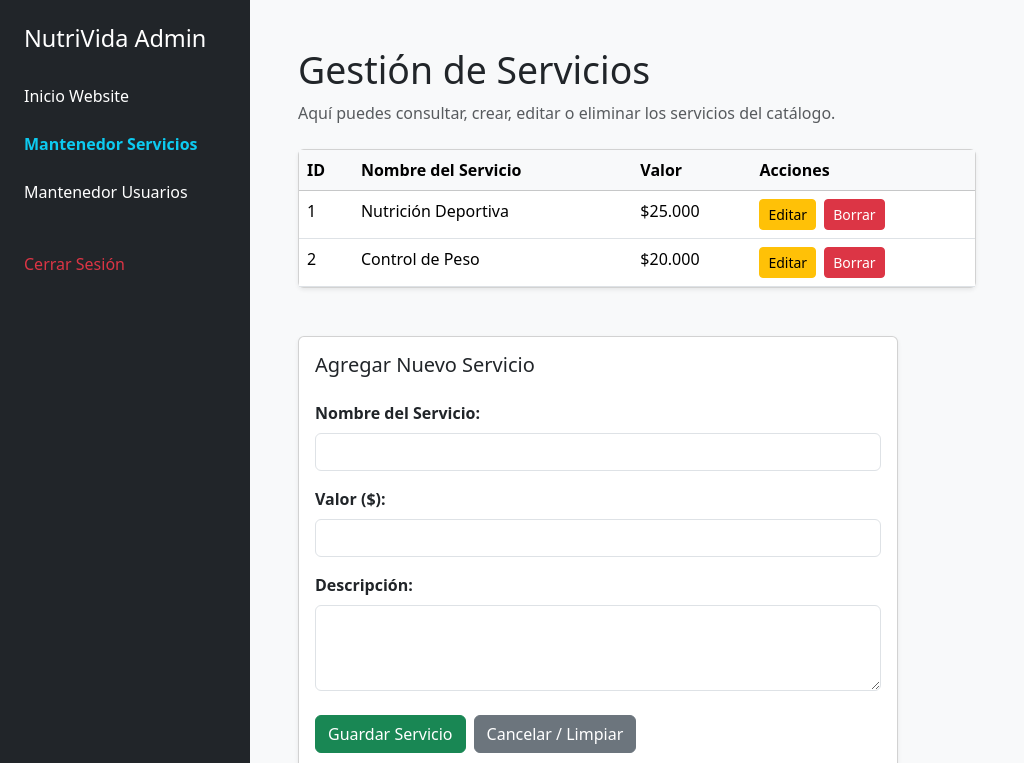
Test case: 17. CREATE: Permite agregar un nuevo servicio a la lista
Type "Nutrición Vegana" into the field labelled "Nombre del Servicio:".
click(598, 452); type("Nutrición Vegana")  # box [315,433,881,471]
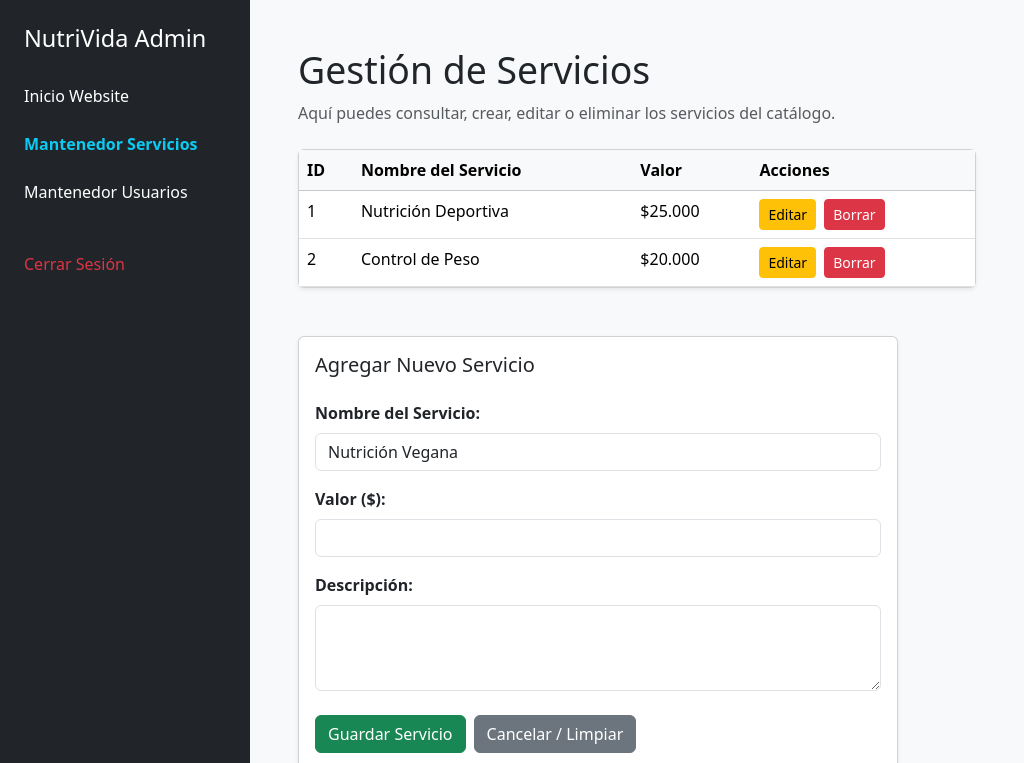
Type "15000" into the number field labelled "Valor ($):".
click(598, 538); type("15000")  # box [315,519,881,557]
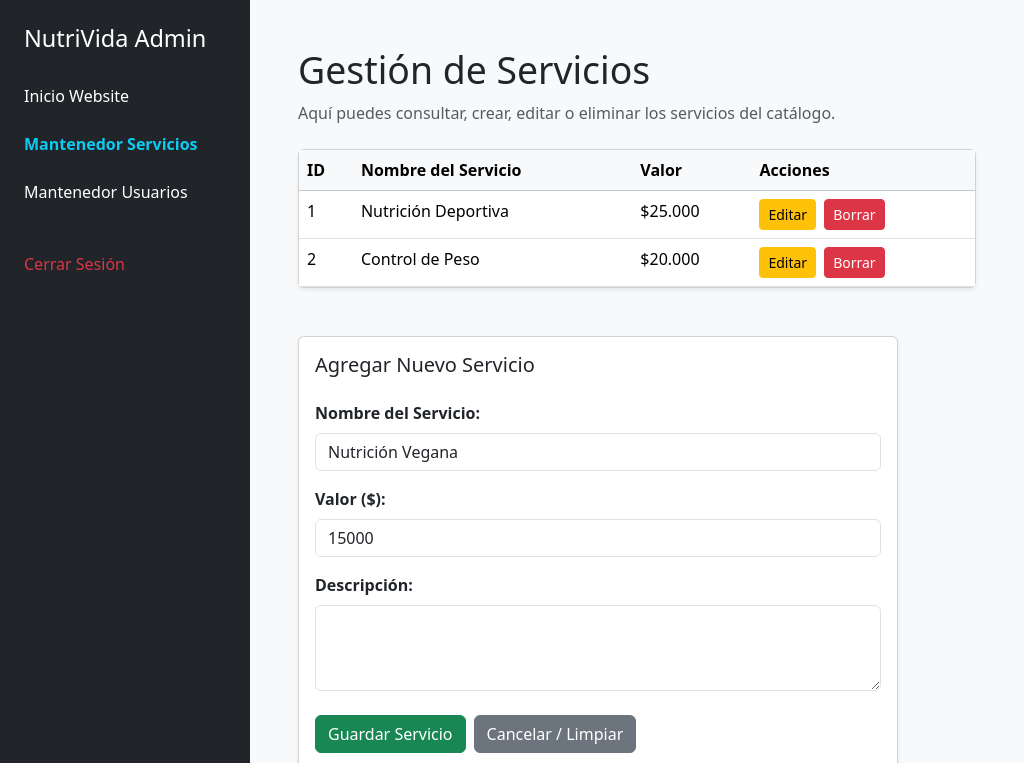
Click the button "Guardar Servicio".
click(390, 734)  # box [315,715,466,753]
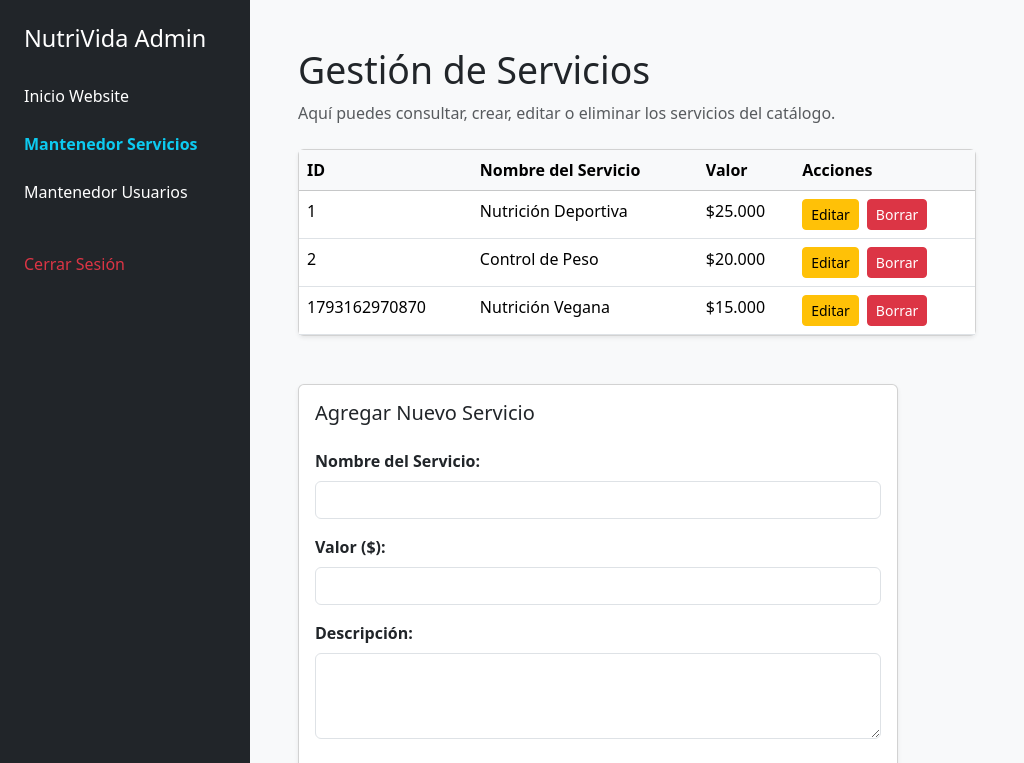
Result: the text "Nutrición Vegana" is shown at [472,286,698,334]
